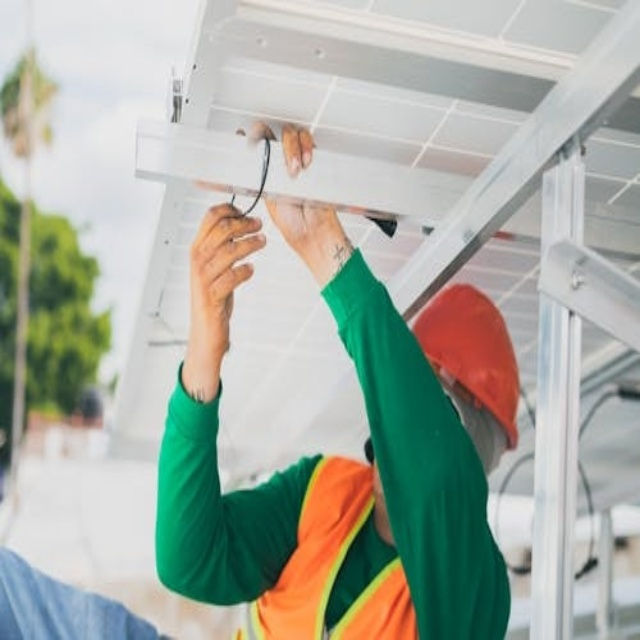Sin_guantes: (173, 195, 275, 368), (243, 117, 353, 270)
